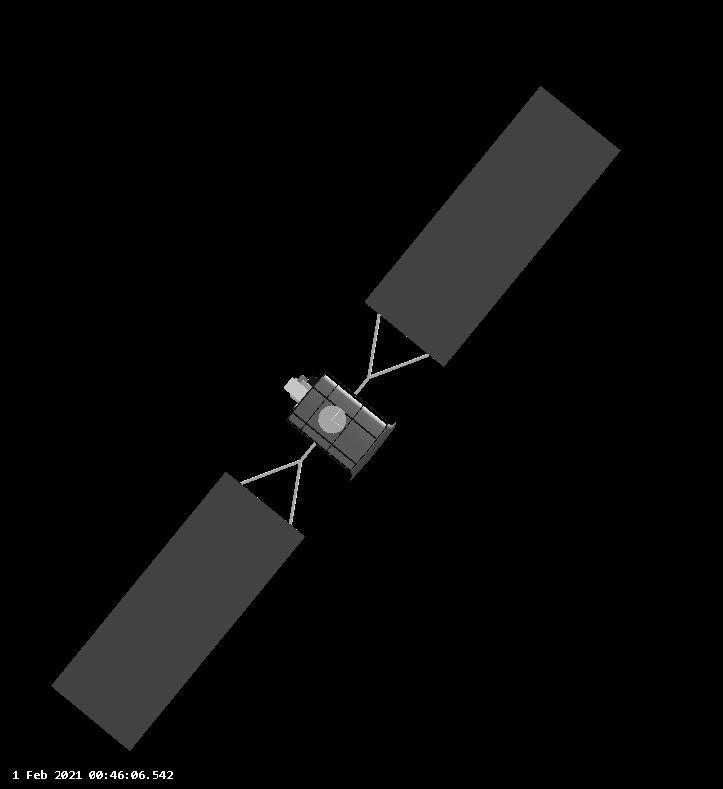antenna: (314, 403, 351, 436)
body: (279, 364, 401, 484)
solar: (357, 80, 626, 371), (44, 468, 310, 754)
